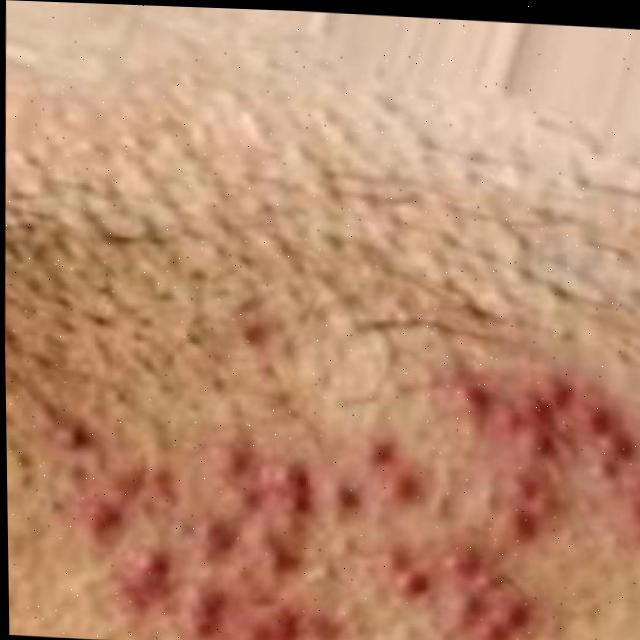Shingles: (46, 355, 640, 640)
